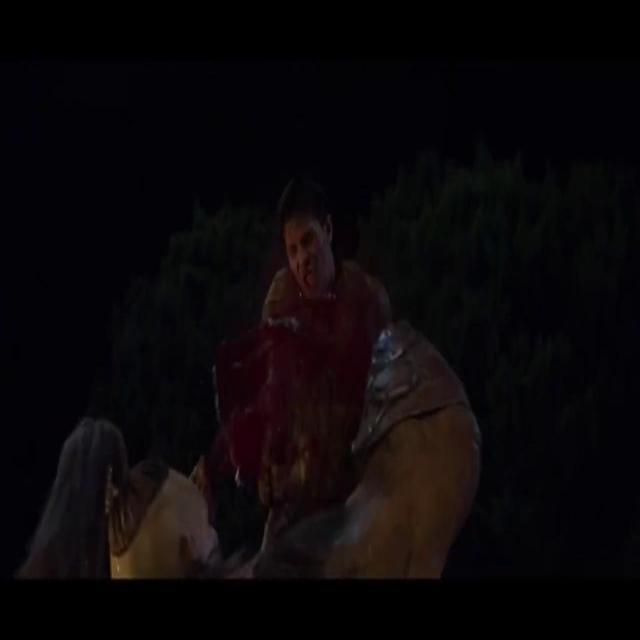flood: (202, 288, 381, 494)
